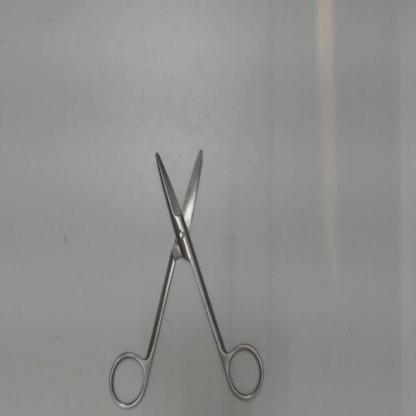Curved Mayo Scissors: (100, 140, 269, 416)
